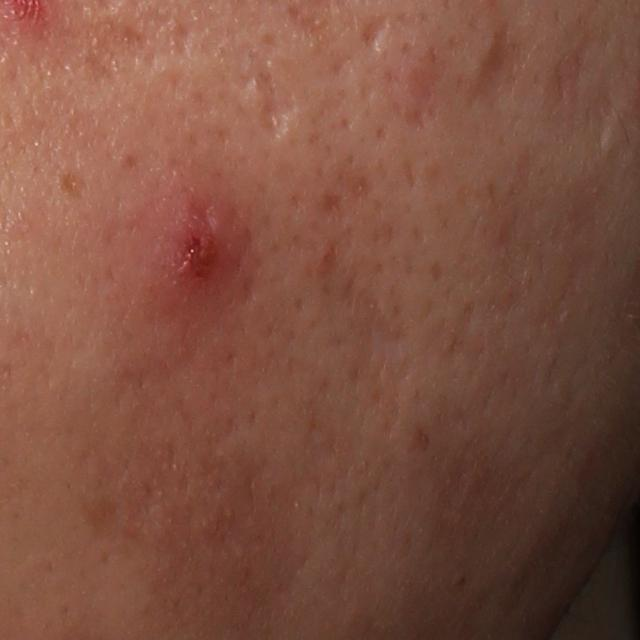atrophic_scar: (462, 22, 536, 116), (231, 43, 298, 140), (404, 52, 454, 127), (354, 13, 395, 55)
papule: (150, 201, 233, 303), (307, 235, 332, 280)
